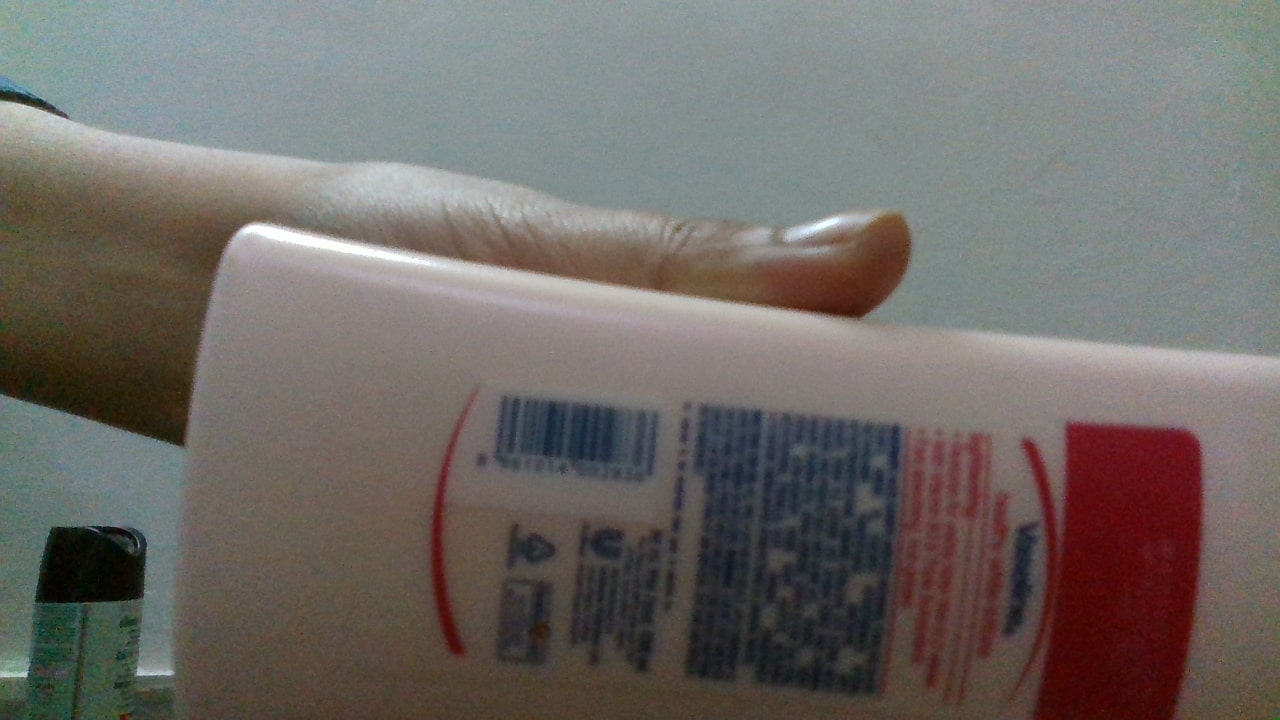Barcode: (490, 386, 661, 493)
